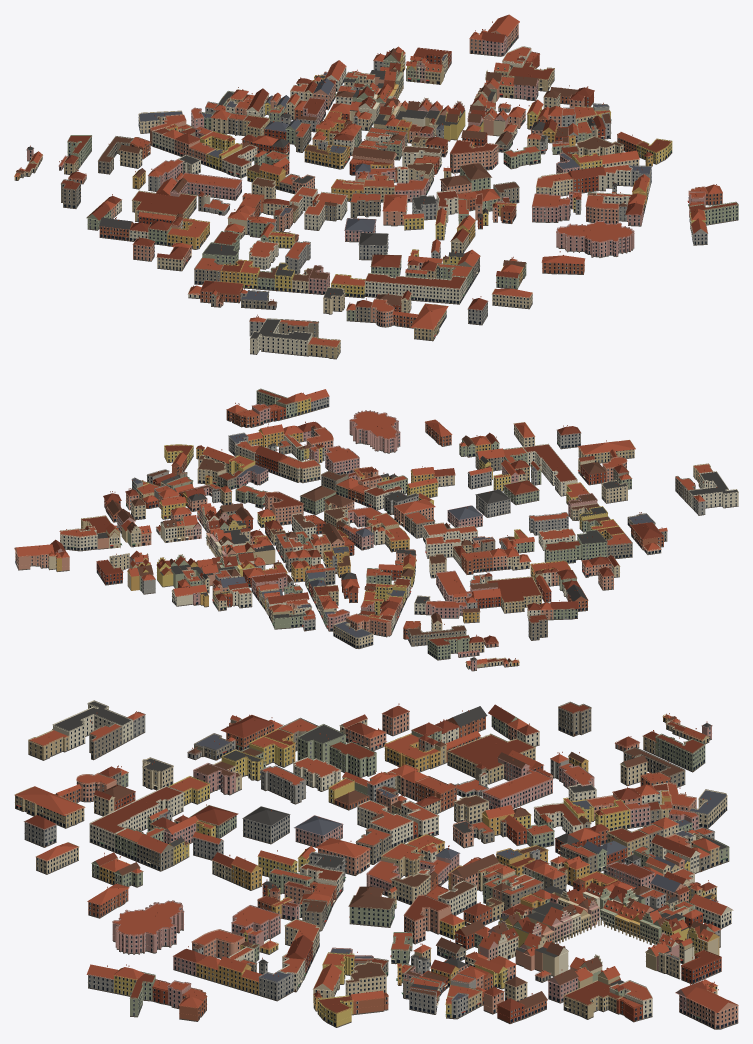
Rendered from Budynki_0_0.fbx.
3 renders of one model, top to bottom at view 1: azimuth 30°, elevation 25°; view 2: azimuth 150°, elevation 25°; view 3: azimuth 270°, elevation 25°, orthographic. The views are drawn at different scales.
Visible parts, largest first — view 1: Bud_350955278, Bud_187042979, Bud_277524981, Bud_301585250, Bud_207201322, Bud_107997276, Bud_207201368, Bud_277524929, Bud_207201351, Bud_196297813, Bud_105152215, Bud_283584875 (+38 smaller); view 2: Bud_187042979, Bud_350955278, Bud_301585250, Bud_277524981, Bud_207201342, Bud_277524929, Bud_107997276, Bud_207201358, Bud_105039906, Bud_207201368, Bud_943581573, Bud_155633692 (+42 smaller); view 3: Bud_187042979, Bud_350955278, Bud_301585250, Bud_277524981, Bud_277524929, Bud_207201322, Bud_105039906, Bud_155633679, Bud_207201351, Bud_107997276, Bud_196297813, Bud_943581573 (+90 smaller).
Part boxes in pixels (box(x1,y1,x2,y2)): Bud_350955278: box(364, 273, 466, 304); Bud_187042979: box(556, 220, 634, 257); Bud_277524981: box(250, 318, 312, 356); Bud_301585250: box(132, 190, 196, 222); Bud_207201322: box(179, 172, 242, 200); Bud_107997276: box(450, 139, 498, 173); Bud_207201368: box(532, 193, 570, 222); Bud_277524929: box(410, 303, 448, 341); Bud_207201351: box(304, 191, 347, 230); Bud_196297813: box(167, 218, 209, 249); Bud_105152215: box(221, 144, 257, 178); Bud_283584875: box(541, 251, 585, 274); Bud_187042979: box(349, 410, 400, 453); Bud_350955278: box(522, 443, 577, 496); Bud_301585250: box(486, 576, 542, 613); Bud_277524981: box(688, 471, 738, 509); Bud_207201342: box(278, 456, 320, 483); Bud_277524929: box(577, 439, 635, 463); Bud_107997276: box(264, 491, 303, 525); Bud_207201358: box(427, 635, 469, 660); Bud_105039906: box(14, 544, 54, 570); Bud_207201368: box(325, 445, 359, 474); Bud_943581573: box(475, 489, 510, 517); Bud_155633692: box(60, 526, 97, 551); Bud_187042979: box(112, 900, 184, 954); Bud_350955278: box(89, 785, 183, 852); Bud_301585250: box(447, 733, 535, 784); Bud_277524981: box(52, 700, 132, 750); Bud_277524929: box(14, 786, 85, 828); Bud_207201322: box(482, 768, 553, 809); Bud_105039906: box(686, 987, 738, 1029); Bud_155633679: box(563, 980, 622, 1019); Bud_207201351: box(357, 799, 413, 848); Bud_107997276: box(403, 894, 450, 944); Bud_196297813: box(384, 733, 440, 772); Bud_943581573: box(242, 806, 290, 844).
Bounding box in the file's own units: 517 × 23.53 × 508.
